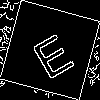E: (25, 25, 77, 80)
